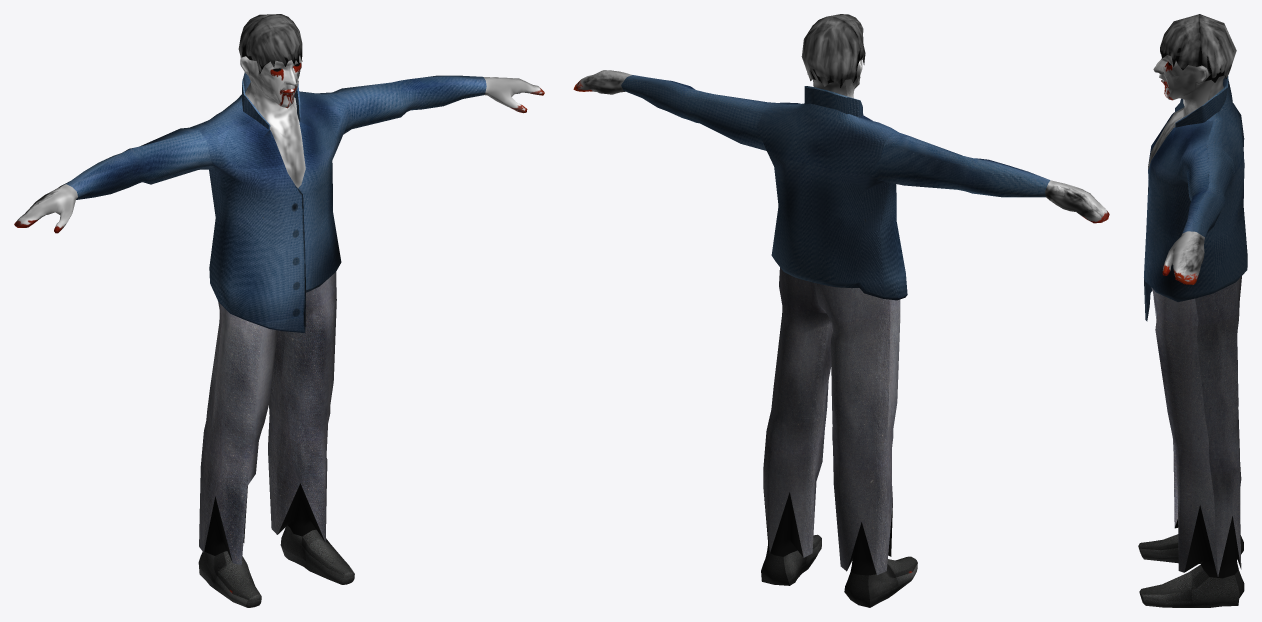
File: zombi.FBX
3 views of the same model, side by side, from view 1: azimuth 30°, elevation 25°; view 2: azimuth 150°, elevation 25°; view 3: azimuth 270°, elevation 25° (orthographic).
Visible parts, largest first — view 1: MaleFigure; view 2: MaleFigure; view 3: MaleFigure.
Boxes of the visible parts, bbox=[...] form: MaleFigure: bbox=[14, 14, 544, 607]; MaleFigure: bbox=[573, 14, 1109, 607]; MaleFigure: bbox=[1138, 14, 1247, 607].
Bounding box in the file's own units: 80.77 × 81.71 × 14.4.
Materials: 1 (1 with a texture image).
